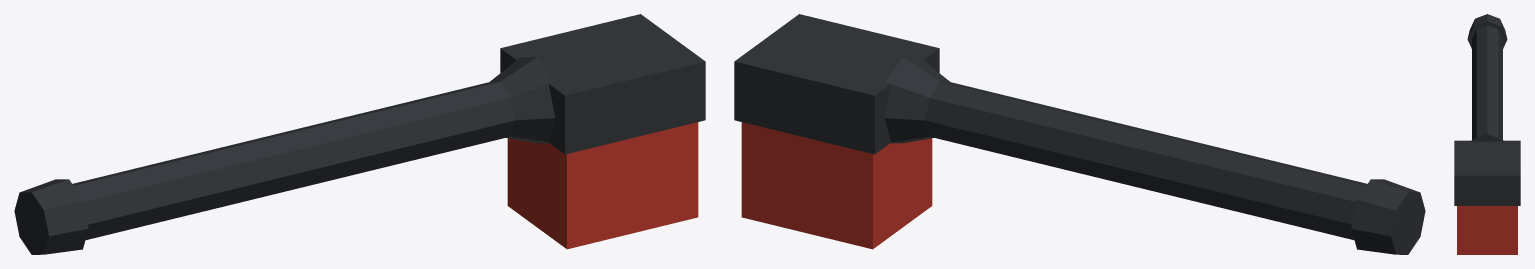
The model's file is WheelBrush.fbx.
3 views of the same model, side by side, from view 1: azimuth 30°, elevation 25°; view 2: azimuth 150°, elevation 25°; view 3: azimuth 270°, elevation 25° (orthographic). The views are drawn at different scales.
Parts seen in each view (by area): view 1: WheelBrush; view 2: WheelBrush; view 3: WheelBrush.
Part boxes in pixels (x1,y1,x2,y2): WheelBrush: [14, 14, 705, 254]; WheelBrush: [734, 14, 1425, 254]; WheelBrush: [1454, 14, 1520, 254].
Size of the model in its own units: 0.3425 by 0.087 by 0.06.
